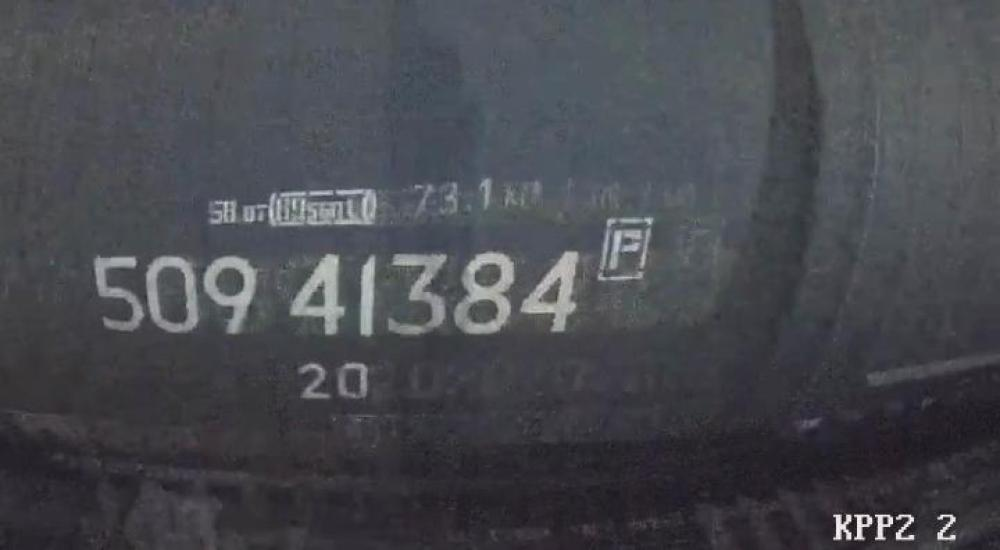Wagon-number: (86, 243, 585, 345)
